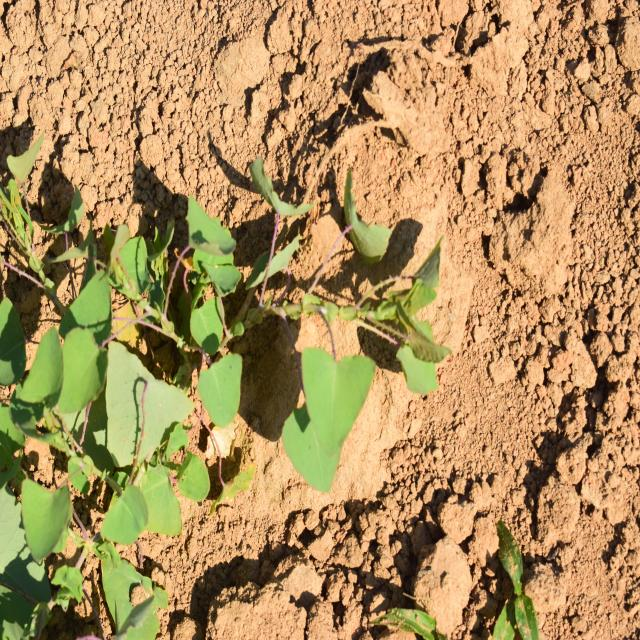Asiatic_Smartweed: (294, 175, 440, 468), (5, 311, 180, 544), (165, 193, 252, 419)
